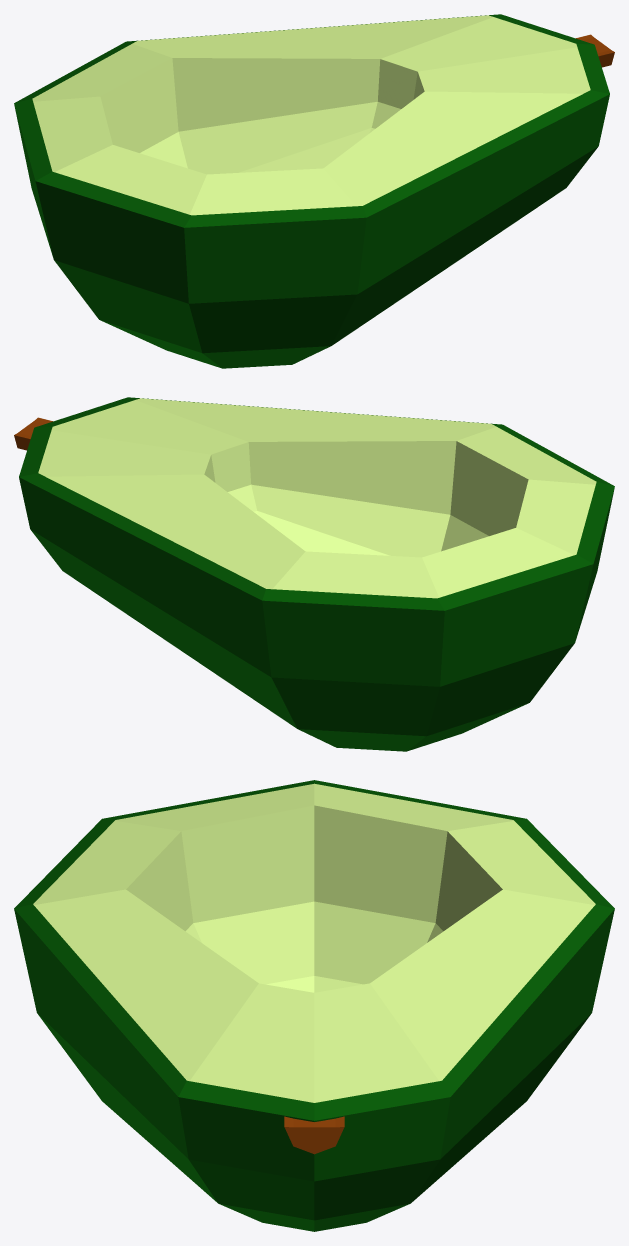
The model's file is avocadoHalf.fbx.
The picture shows the model from 3 angles, top to bottom: view 1: azimuth 30°, elevation 25°; view 2: azimuth 150°, elevation 25°; view 3: azimuth 270°, elevation 25°; orthographic projection. The views are drawn at different scales.
Parts seen in each view (by area): view 1: AvocadoHalf; view 2: AvocadoHalf; view 3: AvocadoHalf.
Part boxes in pixels (box(x1,y1,x2,y2)): AvocadoHalf: box(14, 14, 614, 368); AvocadoHalf: box(14, 397, 614, 751); AvocadoHalf: box(14, 780, 614, 1231).
Bounding box in the file's own units: 272 × 108 × 200.
